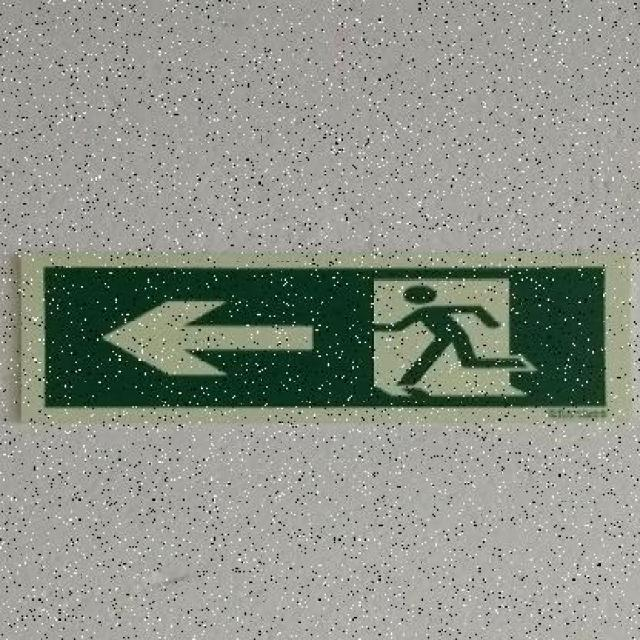emergency_exit: (20, 252, 615, 421)
